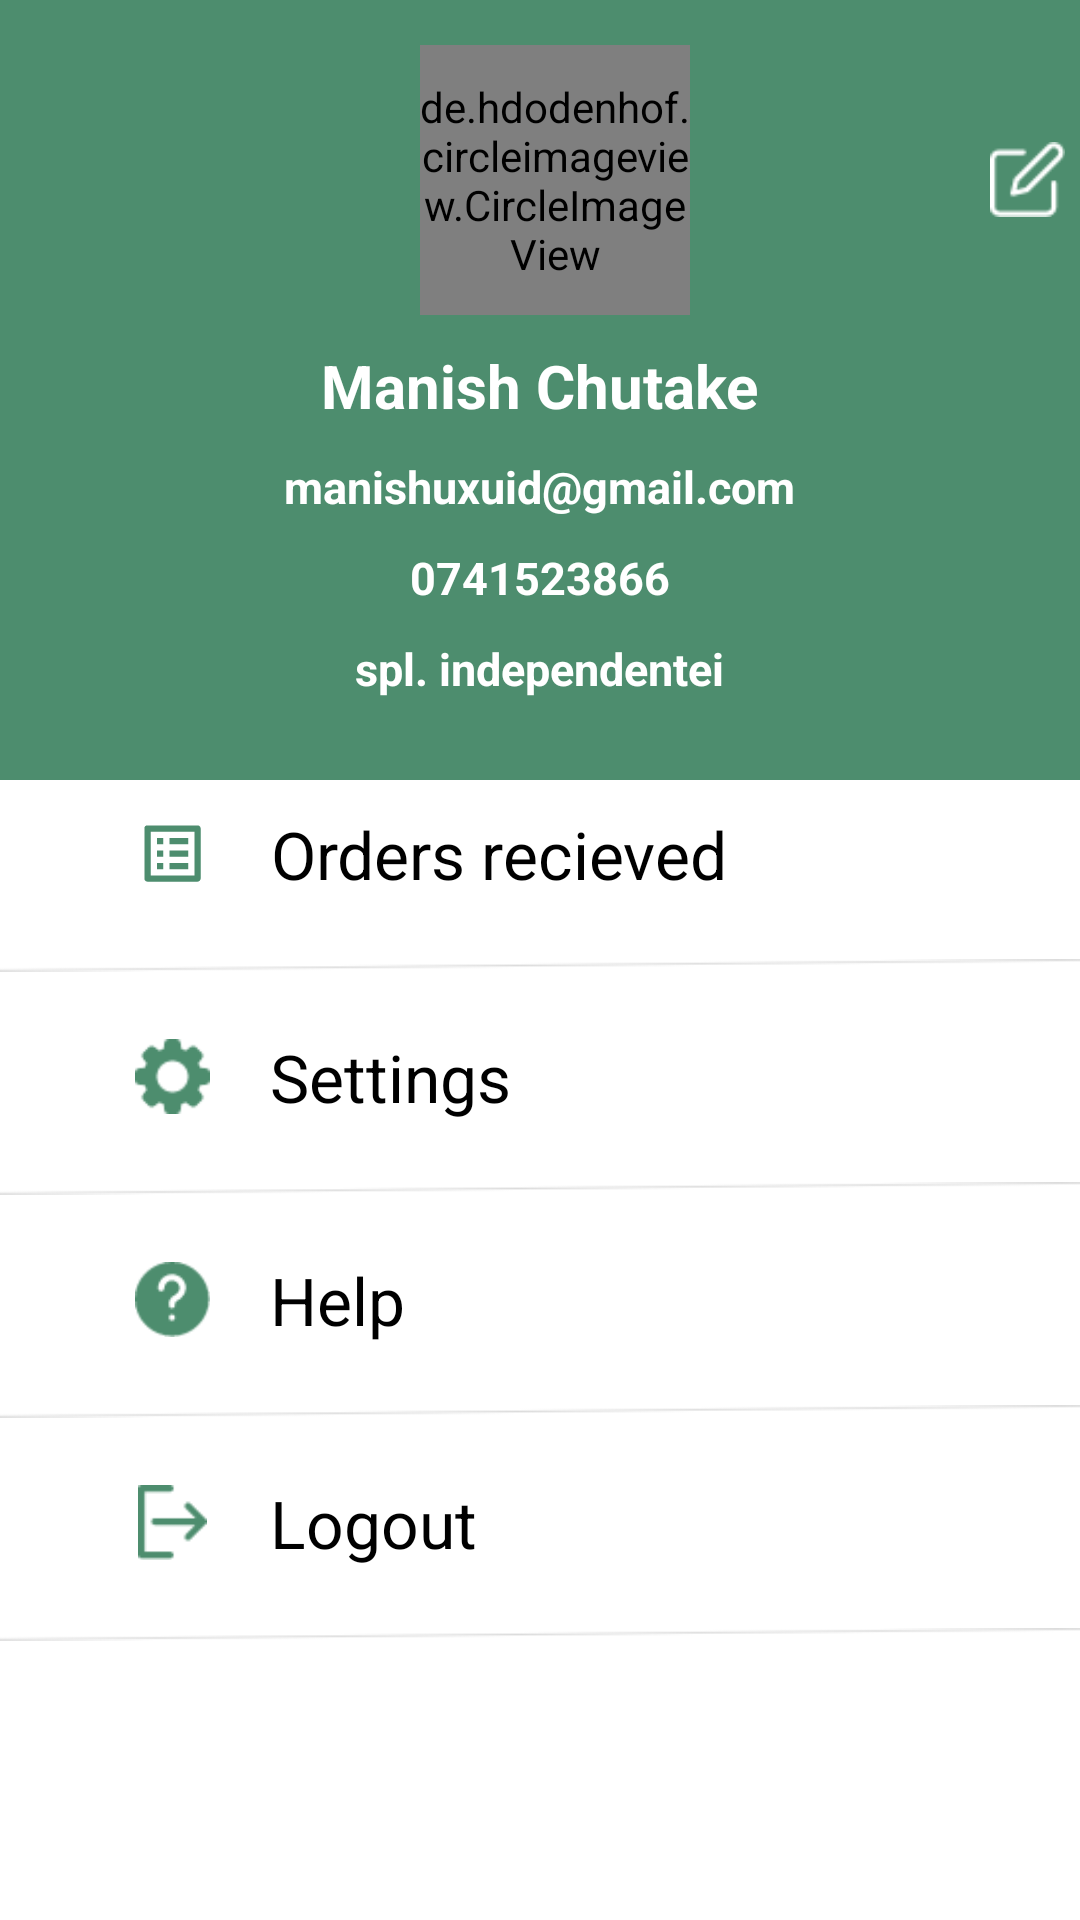

Screen size 1080 x 1920. Icon name, then its box in pixels as detection(x1, y1, x2, y2):
edit: detection(990, 142, 1065, 217)
list product: detection(144, 825, 201, 882)
